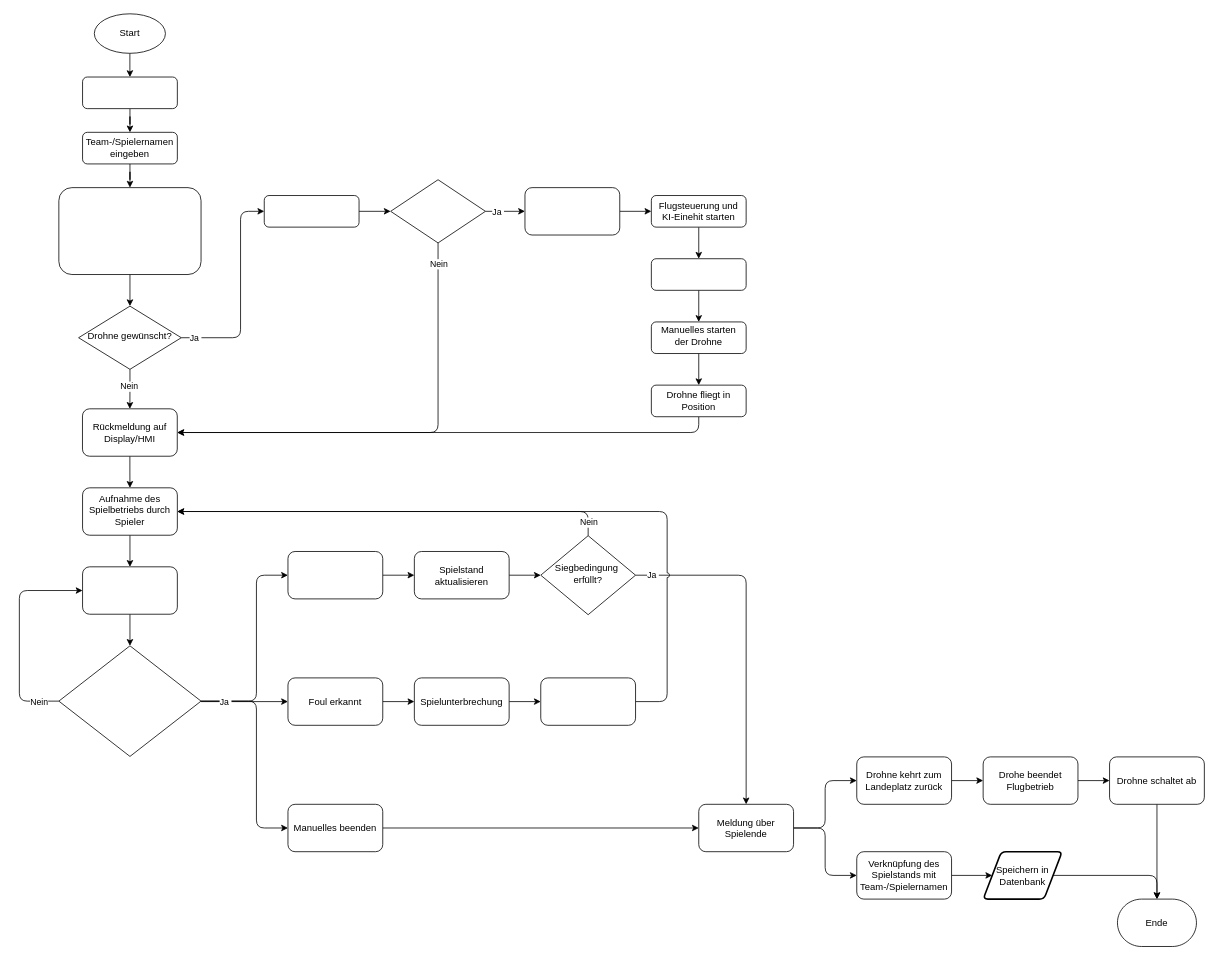
The diagram is 1218 pixels wide and 961 high, and some of its shapes have lost their labels. The shapes that lost their labels are listed below. From the top down, each one's centre as x and y in pixels, then its label:
point 129,92: Anmeldung via HMI
point 129,231: Vorbereitungsroutine: Netzwerkaufbau zwischen Raspi und Drohnensteuerung
point 311,211: Anfrage an Drohnensteuerung
point 437,211: Drohne verfügbar?
point 572,211: Verbindungsaufbau zur Drohne / Manuelles aktivieren der Drohne
point 698,274: Flugsteuerung und KI-Einheit starten
point 129,590: Aktives Spielgeschehen
point 335,575: Tor erzielt
point 129,700: Spielereignis geschehen?
point 588,701: Konsequenzen nach Verstoß durchführen
